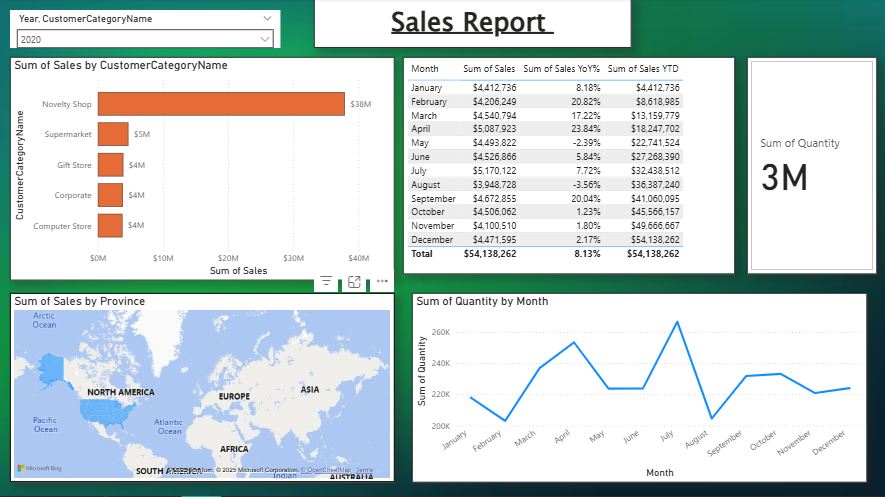

The dashboard page shown, as its layout file describes it:
{"tool":"powerbi","page":{"name":"Page 1","canvas":[1280,720],"ordinal":0},"visuals":[{"type":"barChart","fields":{"Category":["MasterCustomer.CustomerCategoryName"],"Y":["Sum(InvoiceData.Sales)"]},"box":[15.1,85.7,556,322.5],"z":0},{"type":"slicer","fields":{"Values":["InvoiceData.Date.Variation.Date Hierarchy.Year","MasterCustomer.CustomerCategoryName"]},"box":[15.1,16.8,391.4,55.4],"z":1000},{"type":"tableEx","fields":{"Values":["InvoiceData.Date.Variation.Date Hierarchy.Month","Sum(InvoiceData.Sales)","InvoiceData.Sum of Sales YoY%","InvoiceData.Sum of Sales YTD"]},"box":[582.9,85.7,480.4,314.1],"z":2000},{"type":"filledMap","fields":{"Category":["MasterCustomer.Province"]},"box":[15.1,426.7,556,273.8],"z":3000},{"type":"lineChart","fields":{"Y":["Sum(InvoiceData.Quantity)"],"Category":["InvoiceData.Date.Variation.Date Hierarchy.Month"]},"box":[596.3,426.7,658.5,273.8],"z":4000},{"type":"textbox","box":[453.5,0,458.6,72.2],"z":5000},{"type":"cardVisual","fields":{"Data":["Sum(InvoiceData.Quantity)"]},"box":[1080.1,85.7,188.1,314.1],"z":6000}]}

Visuals, with their boxes in screenshot pixels (x1, y1, x2, y2), scaled from the page's 1280x720 canvas onto the 885x497 screenshot:
barChart - MasterCustomer.CustomerCategoryName x Sum(InvoiceData.Sales): {"x1": 10, "y1": 59, "x2": 395, "y2": 282}
slicer - InvoiceData.Date.Variation.Date Hierarchy.Year x MasterCustomer.CustomerCategoryName: {"x1": 10, "y1": 12, "x2": 281, "y2": 50}
tableEx - InvoiceData.Date.Variation.Date Hierarchy.Month x Sum(InvoiceData.Sales): {"x1": 403, "y1": 59, "x2": 735, "y2": 276}
filledMap - MasterCustomer.Province: {"x1": 10, "y1": 295, "x2": 395, "y2": 484}
lineChart - Sum(InvoiceData.Quantity) x InvoiceData.Date.Variation.Date Hierarchy.Month: {"x1": 412, "y1": 295, "x2": 868, "y2": 484}
textbox: {"x1": 314, "y1": 0, "x2": 631, "y2": 50}
cardVisual - Sum(InvoiceData.Quantity): {"x1": 747, "y1": 59, "x2": 877, "y2": 276}
